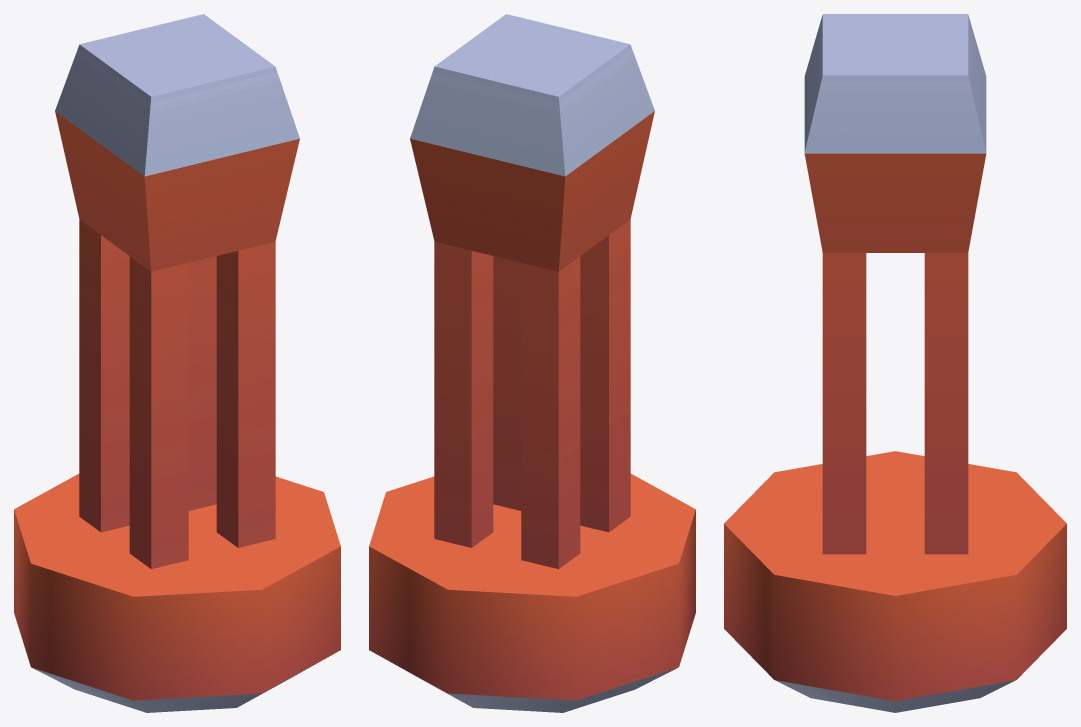
Rendered from buoy.glb.
The picture shows the model from 3 angles, left to right: view 1: azimuth 30°, elevation 25°; view 2: azimuth 150°, elevation 25°; view 3: azimuth 270°, elevation 25°; orthographic projection.
Visible parts, largest first — view 1: buoy; view 2: buoy; view 3: buoy.
Part boxes in pixels (x1,y1,x2,y2): buoy: (14, 14, 340, 712); buoy: (369, 14, 695, 712); buoy: (724, 14, 1066, 712).
Bounding box in the file's own units: 0.9283 × 1.84 × 0.9283.
Materials: 1 (1 with a texture image).
